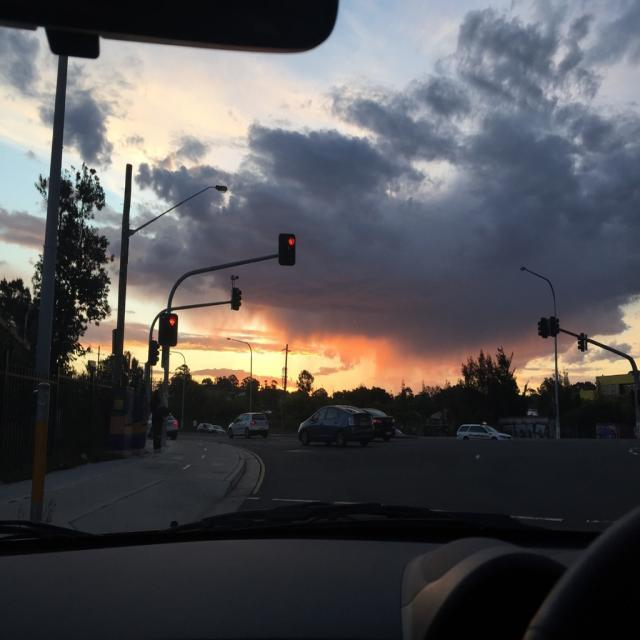off traffic light: (231, 289, 244, 309), (548, 315, 560, 335), (538, 316, 546, 338)
traffic light: (279, 234, 297, 265), (161, 313, 177, 346)
